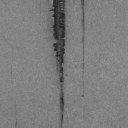slag inclusion: (50, 0, 66, 124), (81, 0, 84, 8)
